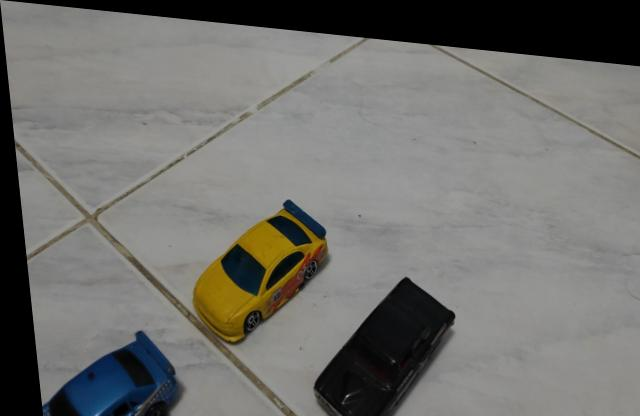01_FORD: (304, 269, 452, 416)
02_OZSOME: (184, 191, 327, 341)
04_MERZEDES: (33, 329, 173, 416)
